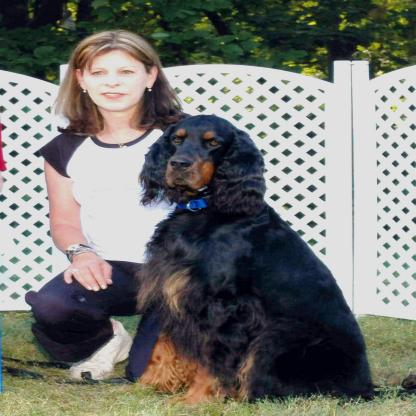Gordon_setter: (137, 115, 414, 406)
